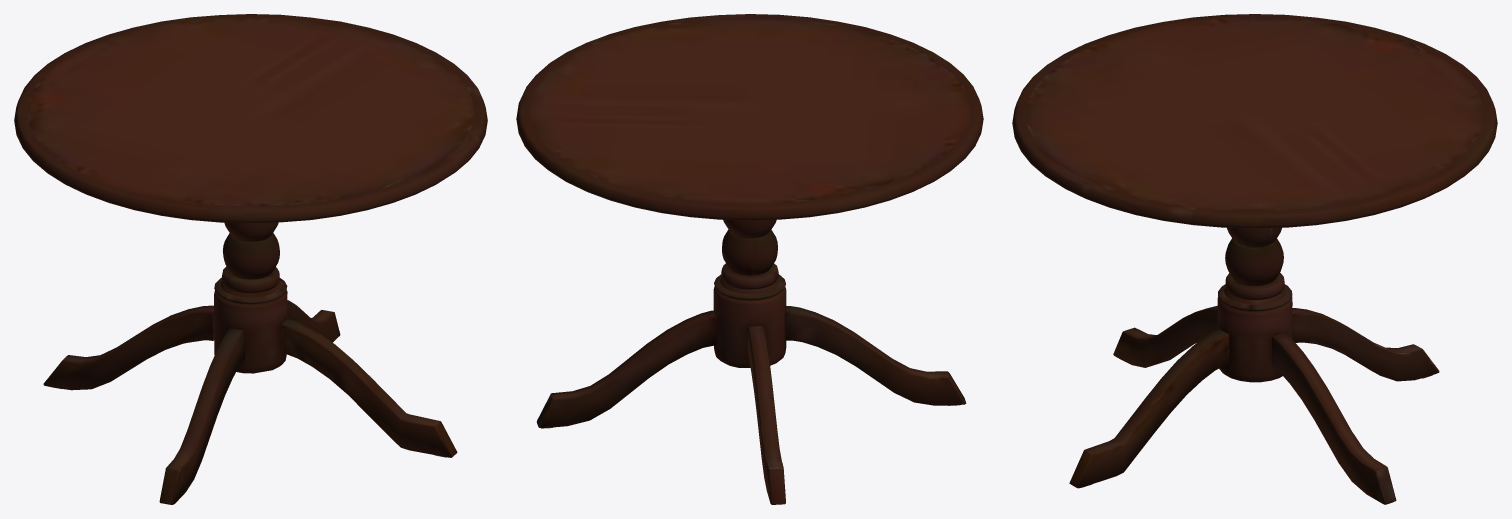
Rendered from roundtable.glb.
3 views of the same model, side by side, from view 1: azimuth 30°, elevation 25°; view 2: azimuth 150°, elevation 25°; view 3: azimuth 270°, elevation 25° (orthographic). The views are drawn at different scales.
Visible parts, largest first — view 1: round_wooden_table_01_round_wooden_table_01_0; view 2: round_wooden_table_01_round_wooden_table_01_0; view 3: round_wooden_table_01_round_wooden_table_01_0.
Boxes of the visible parts, x1,y1,x2,y2 form: round_wooden_table_01_round_wooden_table_01_0: (14,14,487,504); round_wooden_table_01_round_wooden_table_01_0: (516,14,983,504); round_wooden_table_01_round_wooden_table_01_0: (1012,14,1497,504).
Size of the model in its own units: 1.4 by 1 by 1.4.
Materials: 1 (1 with a texture image).
